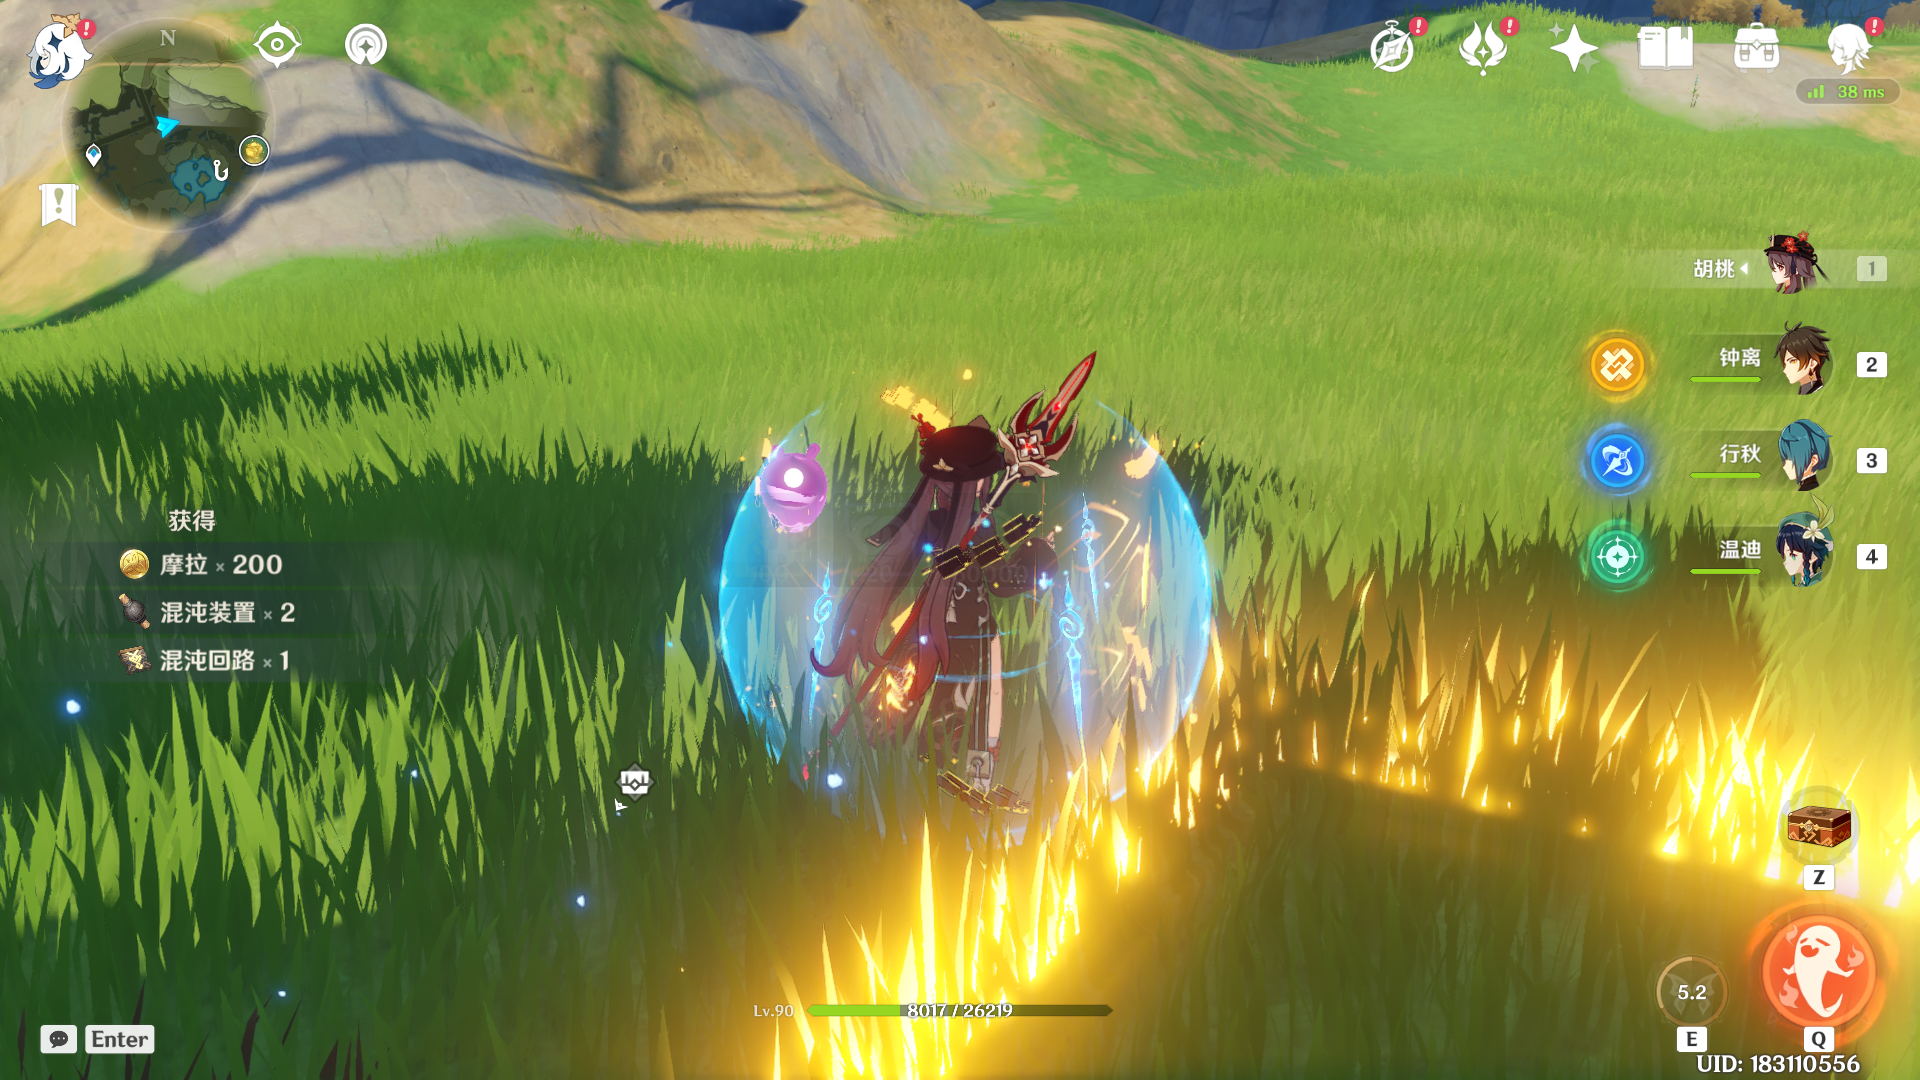character: (773, 373, 1179, 887)
